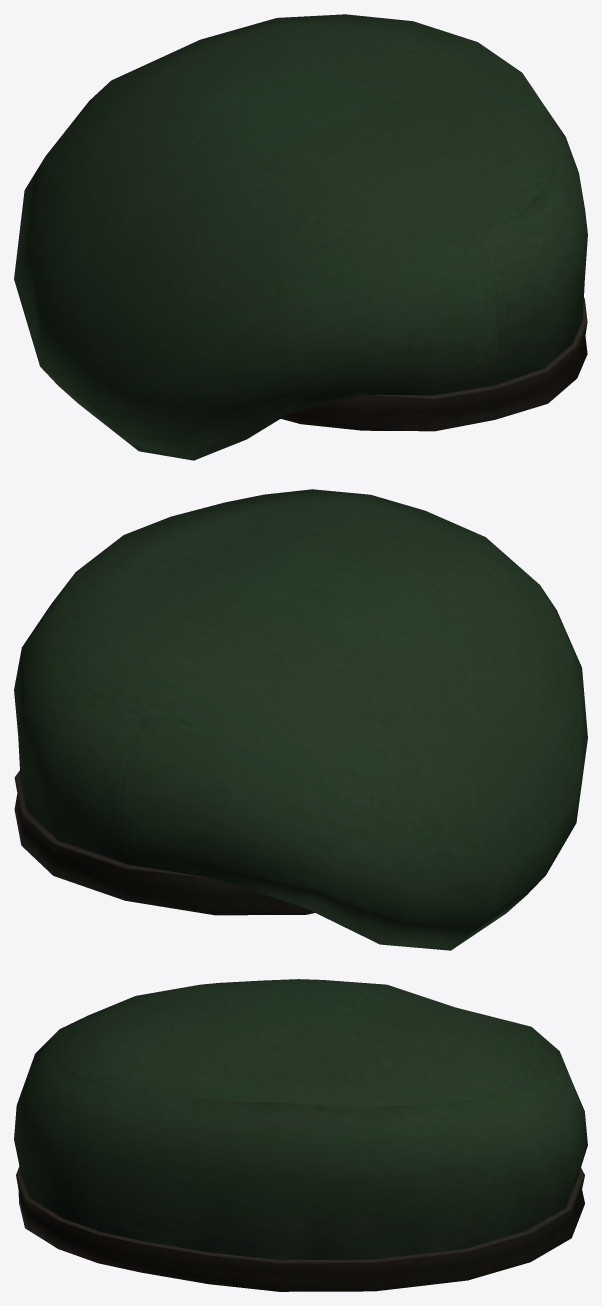
File: hat_beret.gltf
3 views of the same model, one above another, from view 1: azimuth 30°, elevation 25°; view 2: azimuth 150°, elevation 25°; view 3: azimuth 270°, elevation 25° (orthographic). The views are drawn at different scales.
Visible parts, largest first — view 1: hat_beret; view 2: hat_beret; view 3: hat_beret.
Boxes of the visible parts, box(x1,y1,x2,y2) form: hat_beret: box(14, 14, 587, 460); hat_beret: box(14, 489, 587, 950); hat_beret: box(14, 979, 587, 1291).
Size of the model in its own units: 1 by 0.6307 by 1.23.
1 material, 1 textured.
